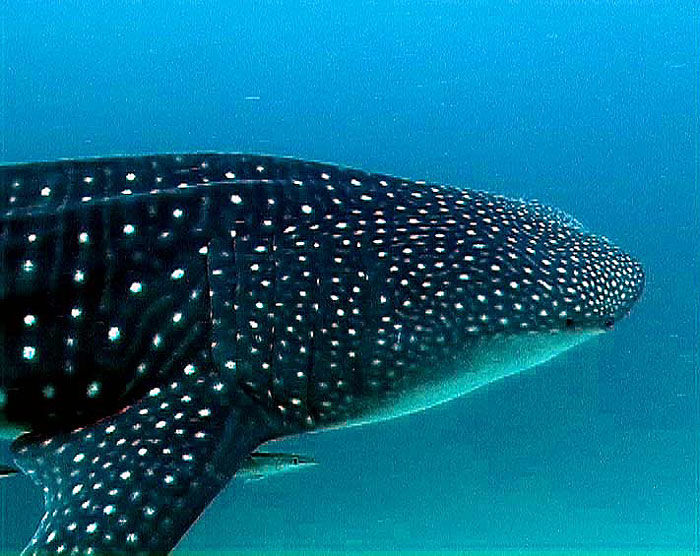Rhincodon_typusw: (1, 133, 657, 549)
